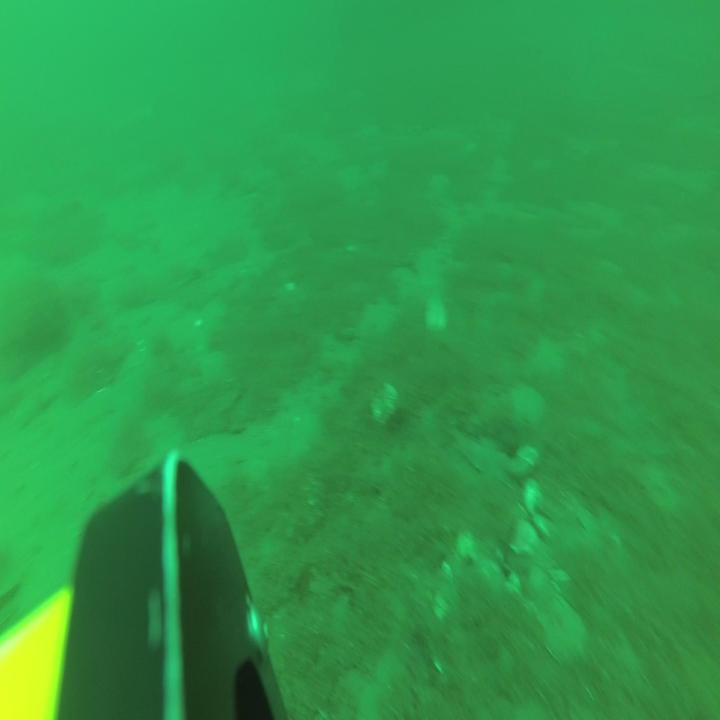scallop: (549, 606, 586, 665), (369, 380, 396, 426), (508, 521, 535, 554), (522, 476, 542, 517), (426, 299, 446, 331)
